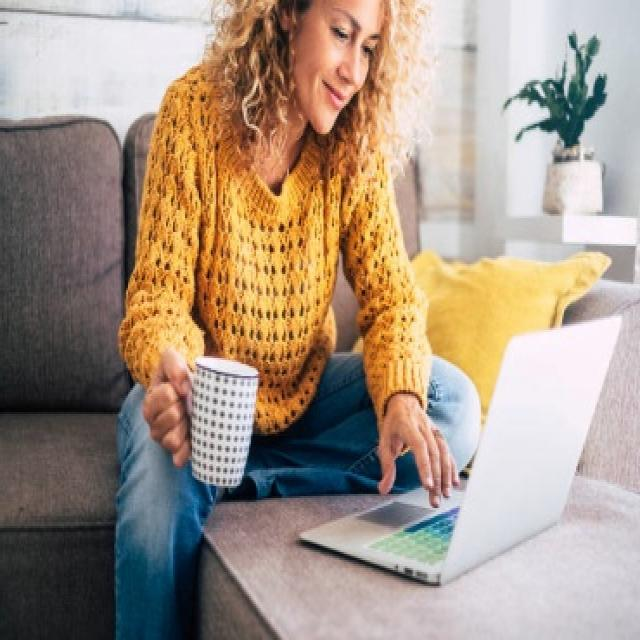adult: (106, 0, 471, 640)
